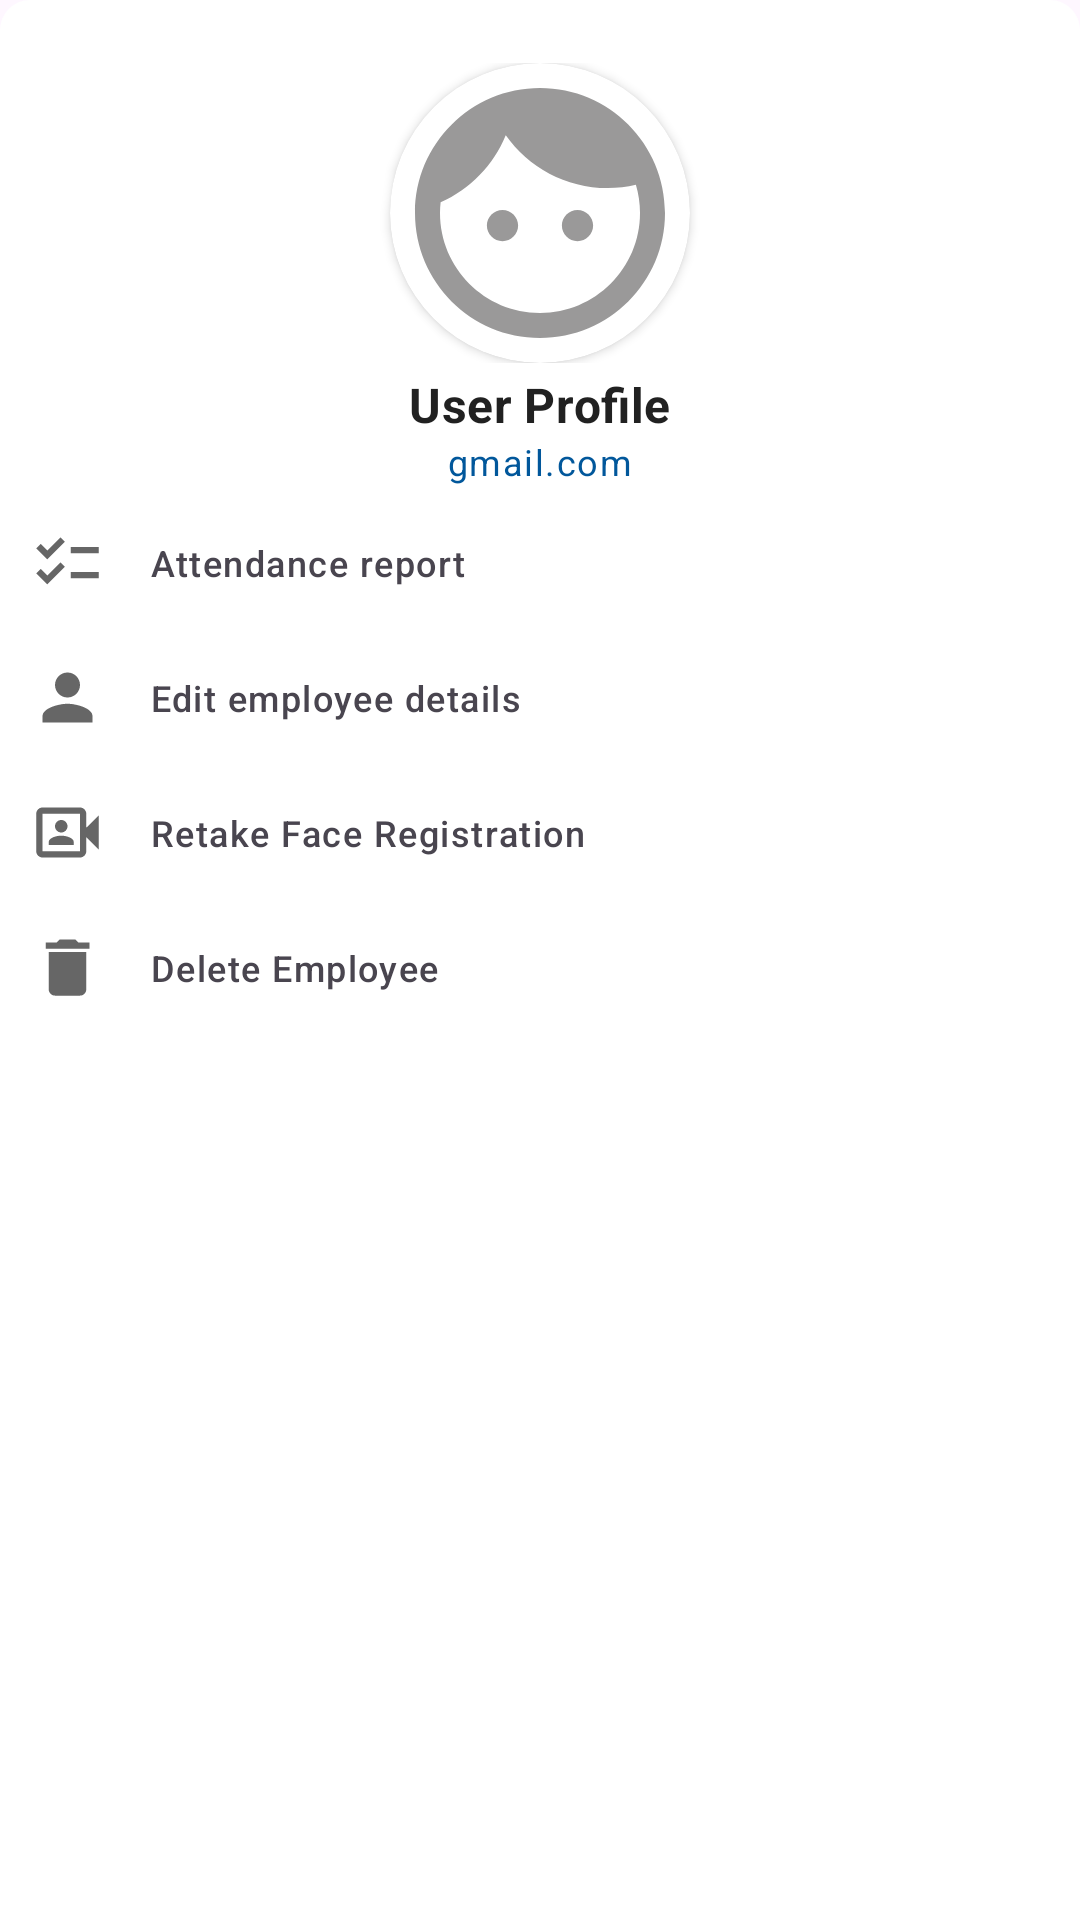

Point at icon controls on the screen. Image size 1080x1920, points as (x=x, y=y).
checklist: (x=67, y=560)
face: (x=540, y=225)
person: (x=67, y=697)
